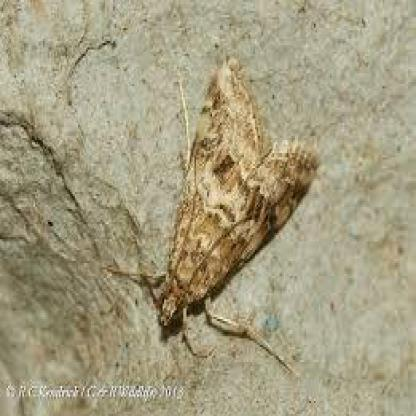Hellula undalis: (98, 45, 326, 382)
